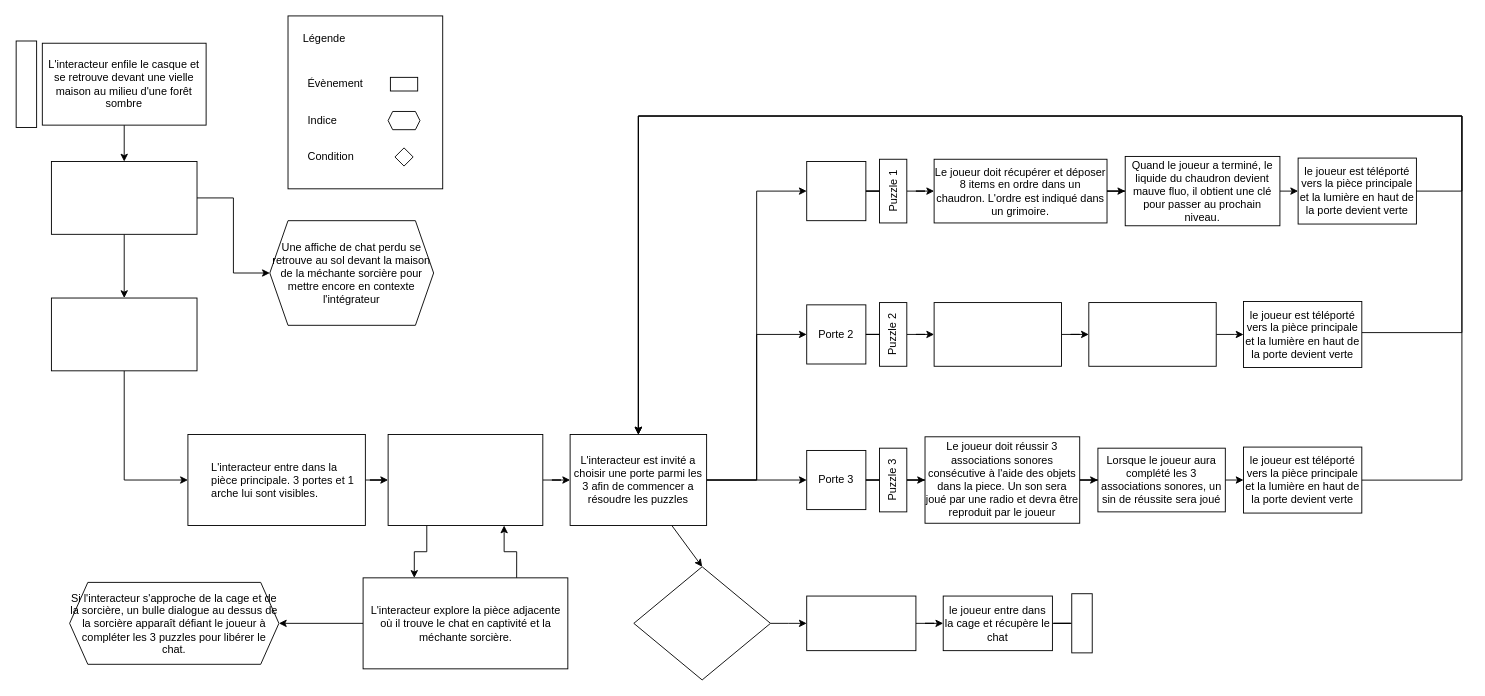
This 1485x696 diagram has some shape labels left out. The centre of each missing label's shape, as x and y in pixels:
Début: point (26, 83)
fin: point (1081, 623)
L'interacteur explore librement la pièce et trouve une clé: point (465, 480)
L'interacteur explore librement les environs: point (124, 197)
L'interacteur se dirige vers la porte de la maison pour y enter: point (124, 334)
Le joueur entre dans une pièce où il doit faire une épreuve de parkour: point (997, 334)
Lorsque le joueur réussi, il reçoit une clé pour ouvrir une porte: point (1152, 334)
lorsque les 3 lumières sont vertes, la porte de la cage s'ouvre: point (701, 623)
ouverture de la cage contenant le chat en captivité: point (861, 623)
Porte 1: point (836, 191)
